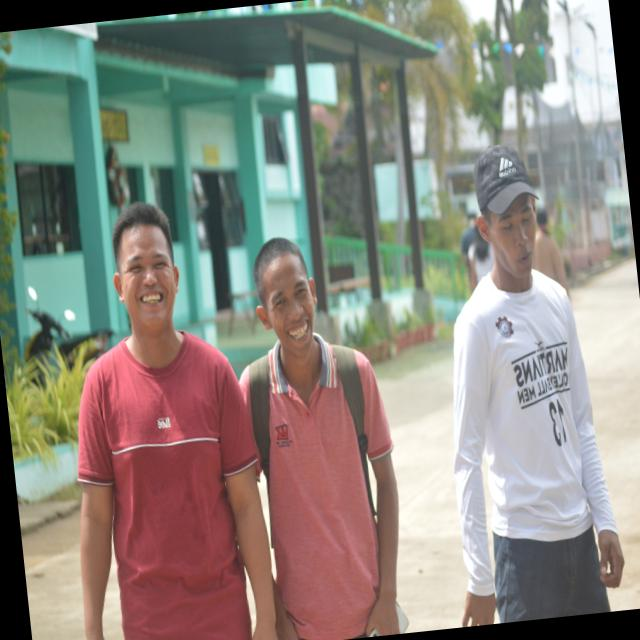person: (77, 203, 276, 639), (453, 146, 623, 625), (253, 238, 399, 639), (532, 208, 568, 295), (467, 227, 493, 291)
